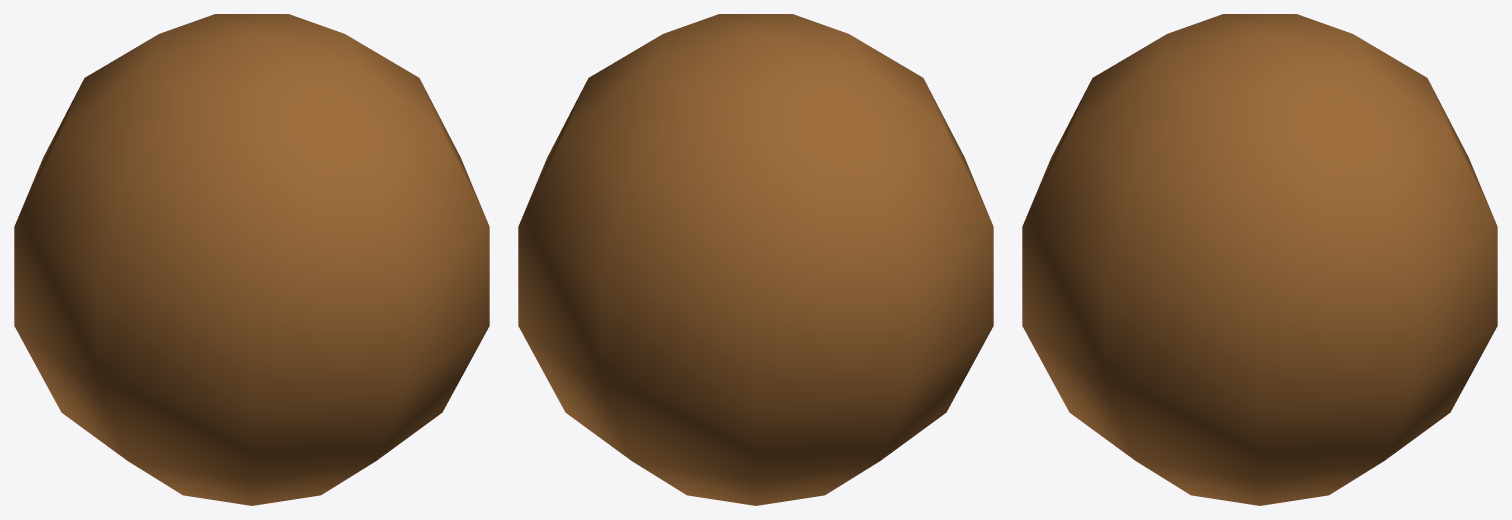
Rendered from geodette_stage1.obj.
3 renders of one model, left to right at view 1: azimuth 30°, elevation 25°; view 2: azimuth 150°, elevation 25°; view 3: azimuth 270°, elevation 25°, orthographic.
Bounding box in the file's own units: 1.23 × 1.3 × 1.25.
